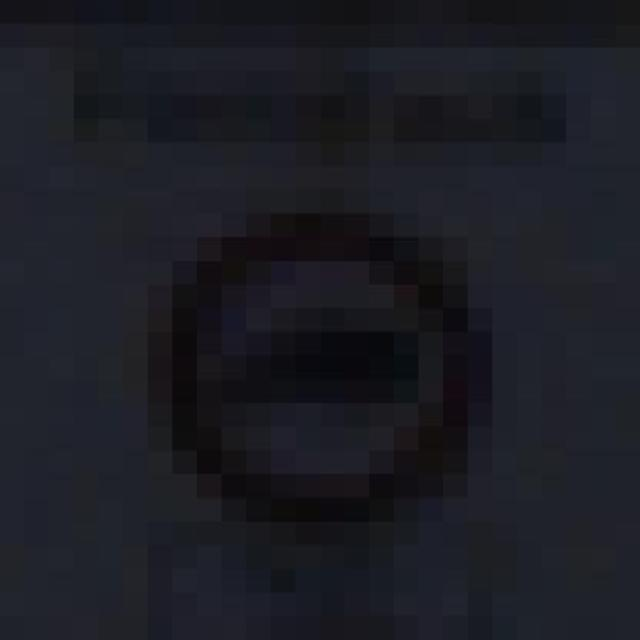Truck traffic is prohibited: (123, 190, 542, 545)
